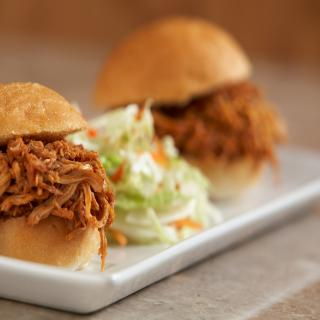Hamburger: (93, 16, 288, 198), (0, 84, 116, 274)
